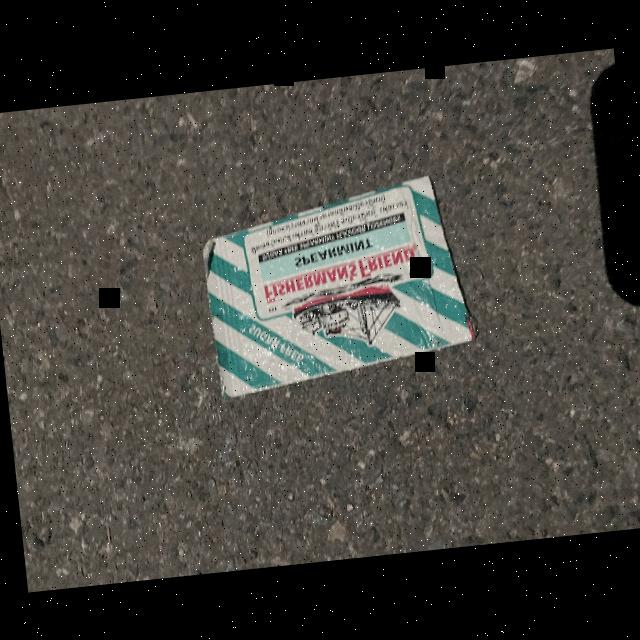snack_bag: (174, 155, 498, 417)
